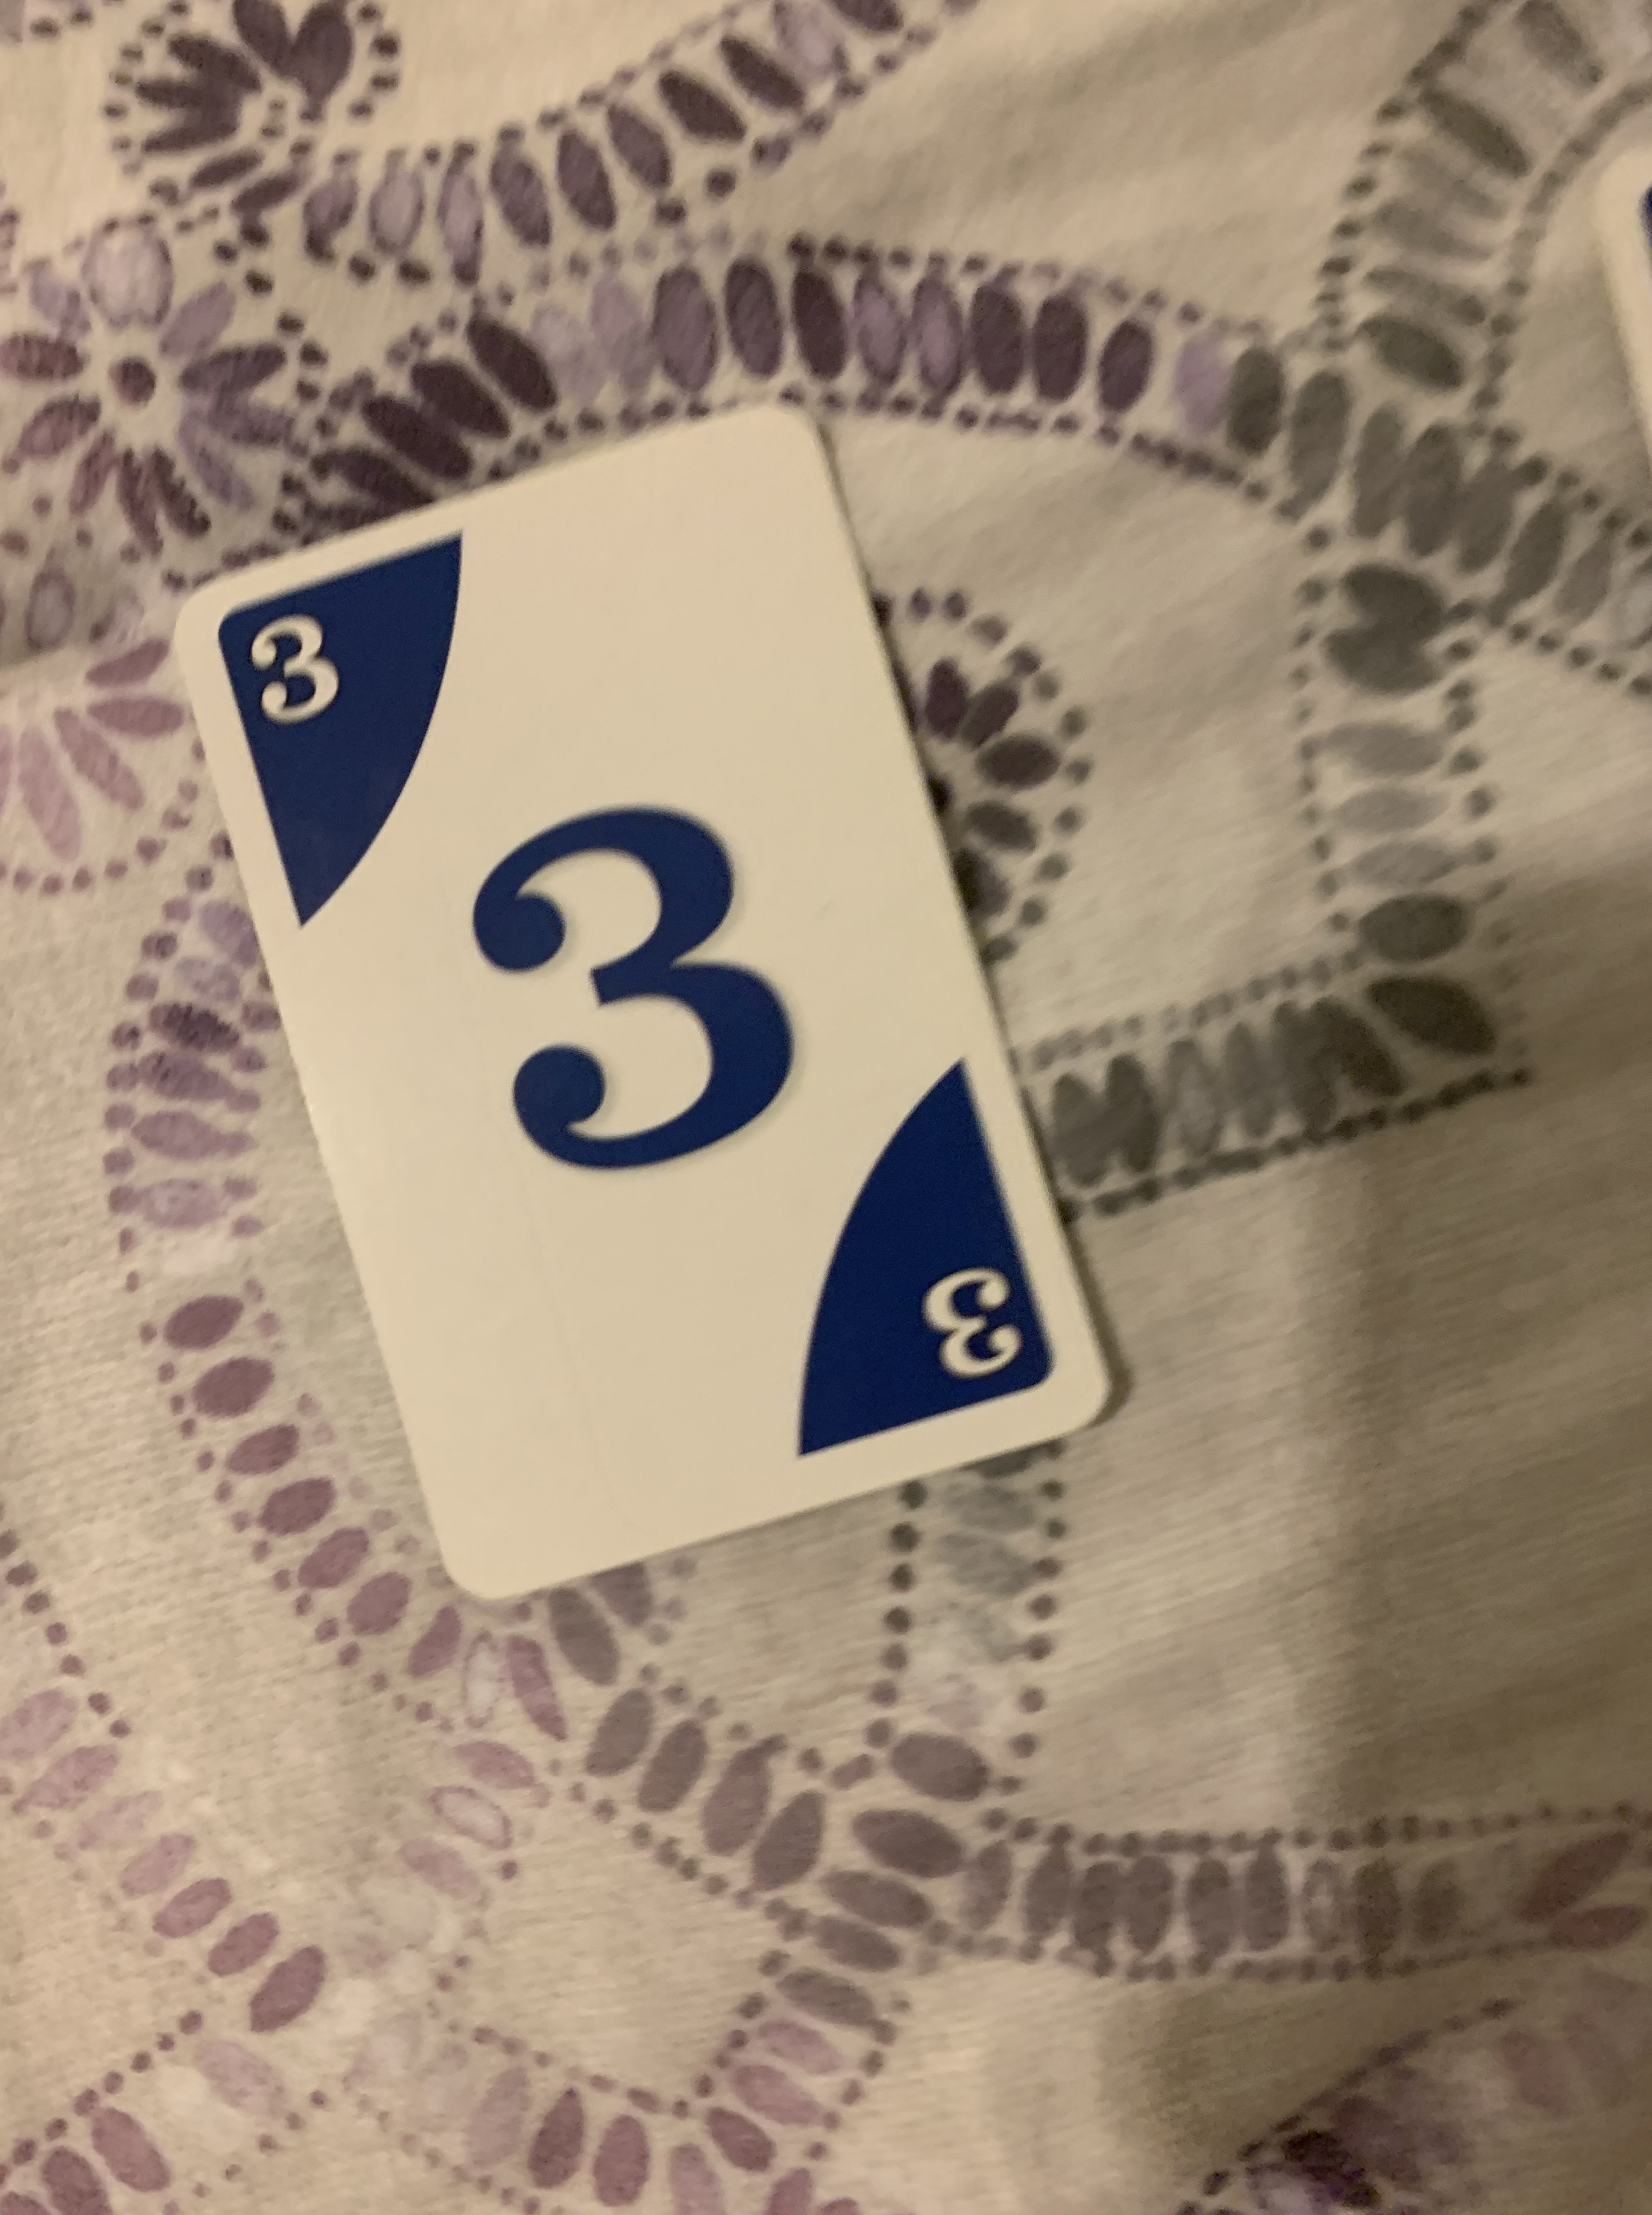three: (170, 401, 1119, 1611)
